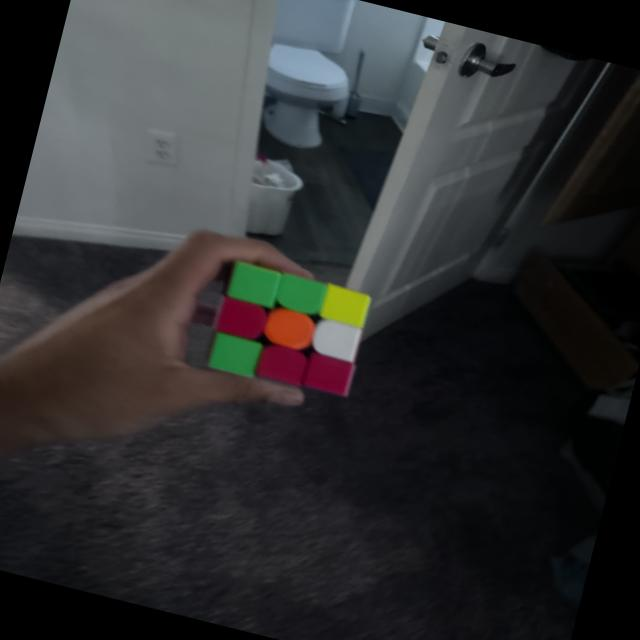sticker: (224, 259, 284, 311), (252, 338, 311, 390), (270, 270, 329, 321), (305, 314, 364, 365), (316, 280, 373, 332), (213, 293, 271, 344), (206, 330, 264, 380), (260, 304, 318, 354), (299, 348, 356, 398)
